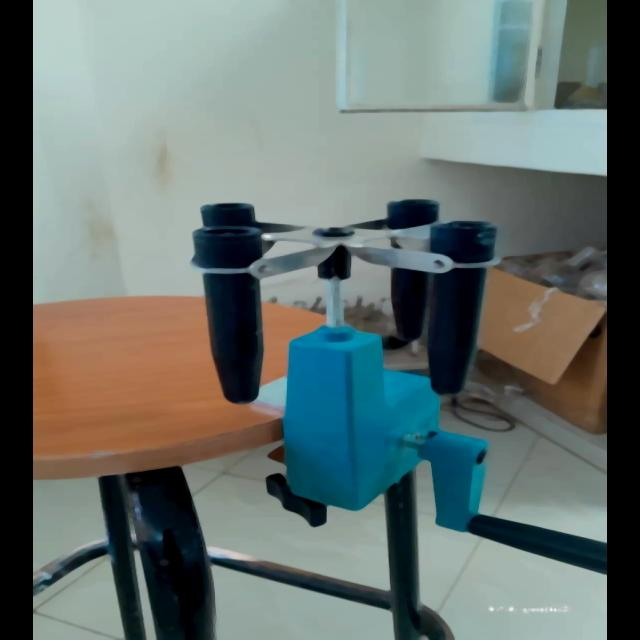Centrifuge: (190, 188, 534, 537)
